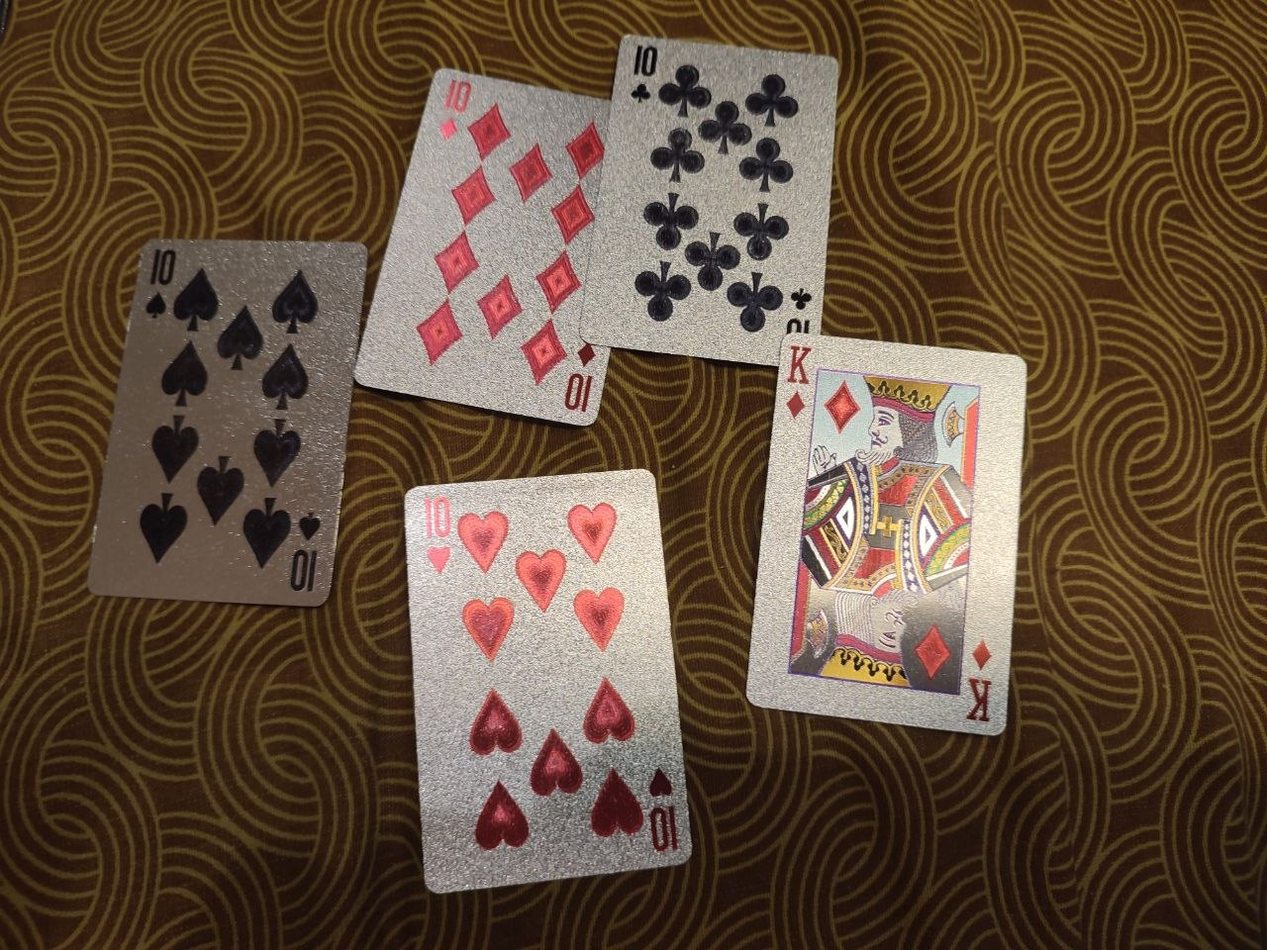10C: (581, 33, 840, 368)
10D: (354, 67, 612, 429)
10H: (400, 464, 698, 894)
10S: (88, 235, 371, 606)
KD: (744, 333, 1029, 736)
